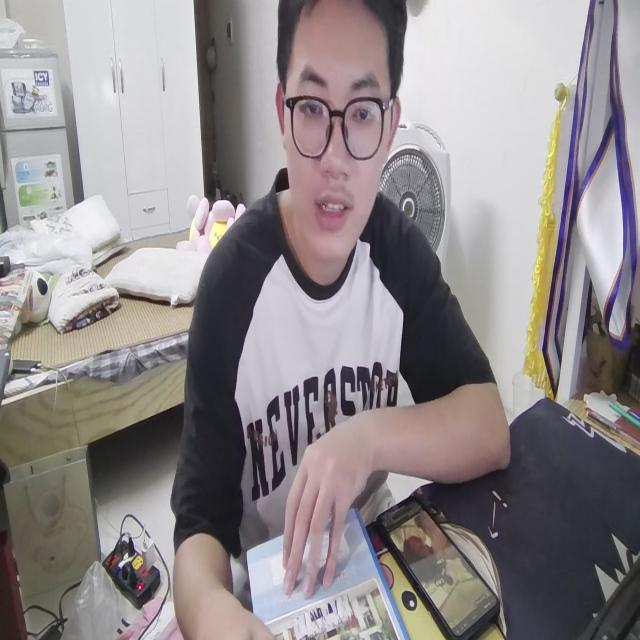book: (241, 495, 409, 640)
phone: (376, 484, 500, 640)
student: (176, 0, 510, 640)
